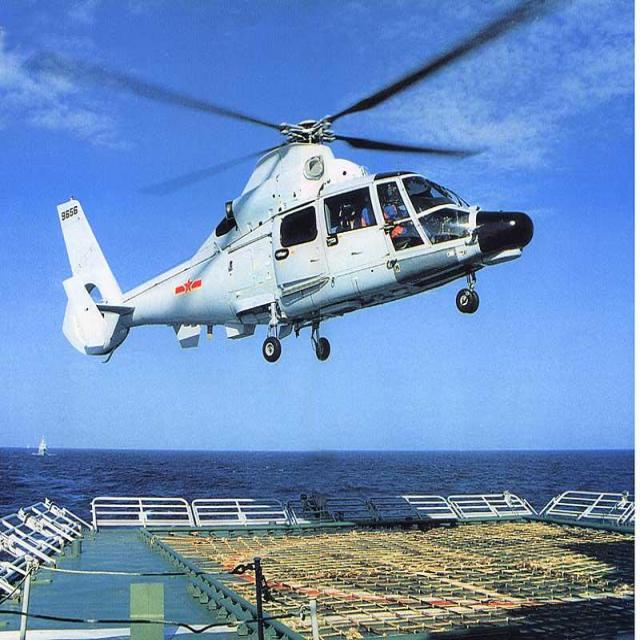MIL_HELO: (8, 0, 596, 386)
